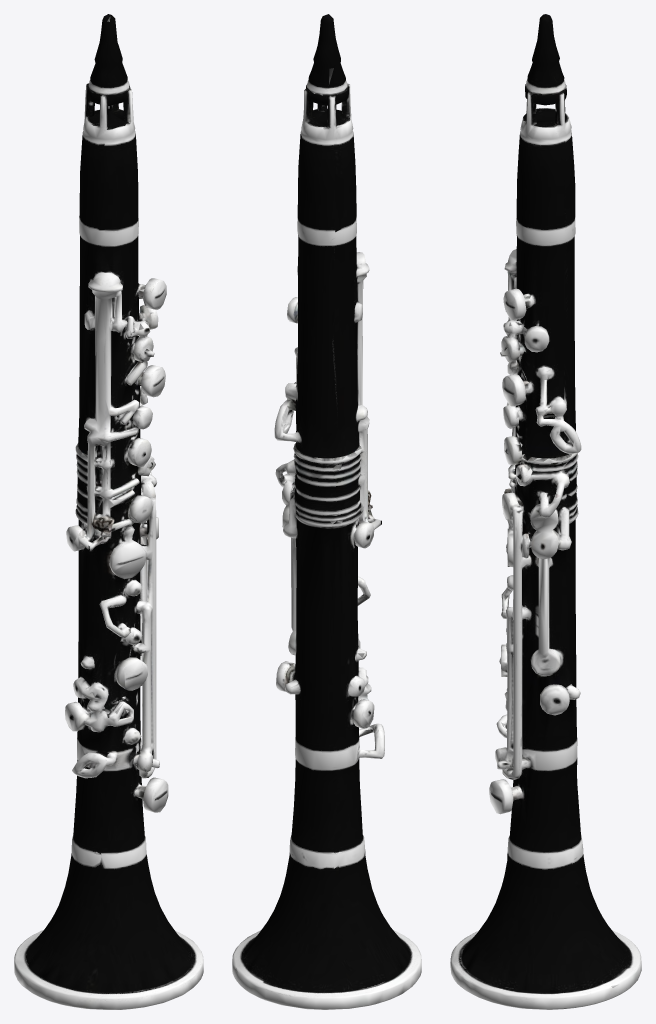
The model's file is clarinet.glb.
3 views of the same model, side by side, from view 1: azimuth 30°, elevation 25°; view 2: azimuth 150°, elevation 25°; view 3: azimuth 270°, elevation 25° (orthographic).
Visible parts, largest first — view 1: mesh; view 2: mesh; view 3: mesh.
Boxes of the visible parts, left/top/right/bottom form: mesh: left=14, top=14, right=203, bottom=1009; mesh: left=232, top=14, right=421, bottom=1009; mesh: left=450, top=14, right=641, bottom=1009.
Size of the model in its own units: 0.1795 by 1 by 0.1811.
Materials: 1 (1 with a texture image).
